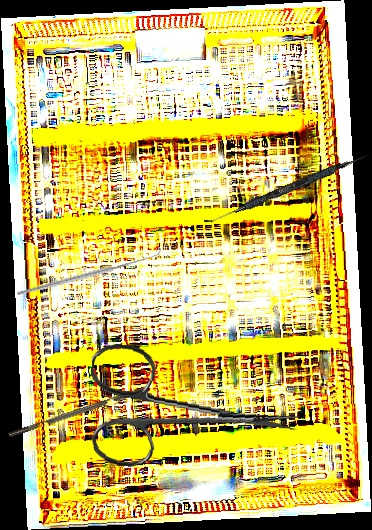Chopper: (5, 378, 157, 438)
Hook Surgical: (15, 214, 163, 328)
Iris Scissors: (83, 342, 304, 481)
Spatula Surgical: (203, 148, 371, 230)
